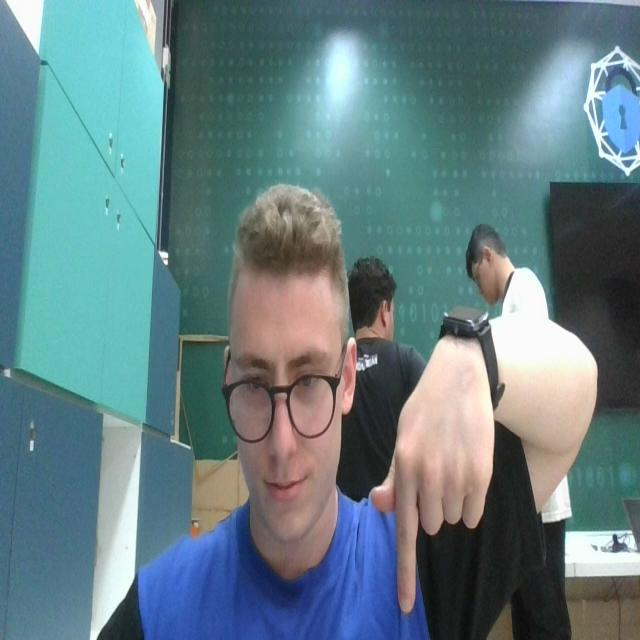Q: (371, 343, 499, 622)
